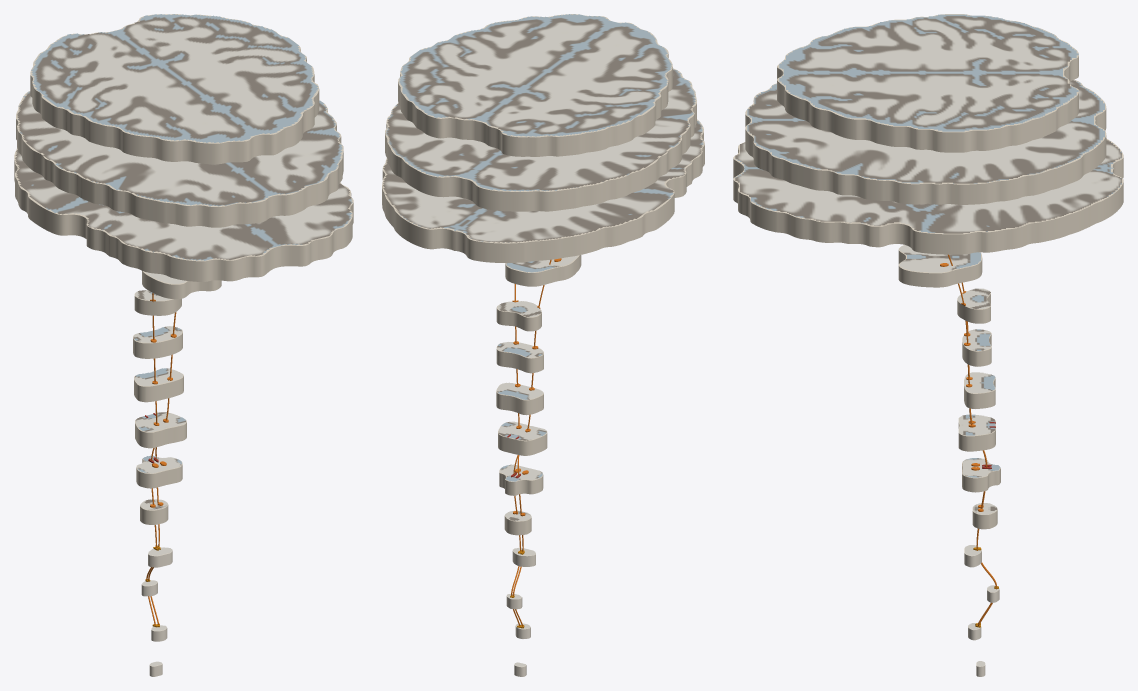
The picture shows the model from 3 angles, left to right: view 1: azimuth 30°, elevation 25°; view 2: azimuth 150°, elevation 25°; view 3: azimuth 270°, elevation 25°; orthographic projection. The views are drawn at different scales.
Visible parts, largest first — view 1: L15·切面（灰白质）, L14·切面（灰白质）, L13·切面（灰白质）, L13·背景·丘脑内囊, L14·背景·放射冠, L15·背景·皮质上部, L11·背景·下丘, L07·背景·橄榄中部, L09·背景·脑桥中部, L08·背景·脑桥下部, L06·背景·丘系交叉, L10·背景·脑桥上部 (+4 smaller); view 2: L15·切面（灰白质）, L14·切面（灰白质）, L13·切面（灰白质）, L13·背景·丘脑内囊, L14·背景·放射冠, L15·背景·皮质上部, L11·背景·下丘, L07·背景·橄榄中部, L09·背景·脑桥中部, L08·背景·脑桥下部, L10·背景·脑桥上部, L06·背景·丘系交叉 (+4 smaller); view 3: L15·切面（灰白质）, L14·切面（灰白质）, L13·切面（灰白质）, L13·背景·丘脑内囊, L14·背景·放射冠, L15·背景·皮质上部, L11·背景·下丘, L11·切面（灰白质）, L07·背景·橄榄中部, L07·切面（灰白质）, L06·背景·丘系交叉.
Part boxes in pixels (x1,y1,x2,y2): L15·切面（灰白质）: (31,14,318,142); L14·切面（灰白质）: (17,91,342,206); L13·切面（灰白质）: (15,150,352,260); L13·背景·丘脑内囊: (14,148,353,281); L14·背景·放射冠: (16,91,343,227); L15·背景·皮质上部: (30,14,319,164); L11·背景·下丘: (142,271,221,299); L07·背景·橄榄中部: (135,413,186,448); L09·背景·脑桥中部: (133,329,182,358); L08·背景·脑桥下部: (134,373,183,402); L06·背景·丘系交叉: (136,458,182,488); L10·背景·脑桥上部: (134,293,181,315); L15·切面（灰白质）: (399,14,671,136); L14·切面（灰白质）: (385,68,695,191); L13·切面（灰白质）: (383,121,703,242); L13·背景·丘脑内囊: (382,119,704,263); L14·背景·放射冠: (385,68,696,211); L15·背景·皮质上部: (398,14,672,156); L11·背景·下丘: (505,255,581,286); L07·背景·橄榄中部: (498,423,547,455); L09·背景·脑桥中部: (496,344,543,373); L08·背景·脑桥下部: (496,384,543,415); L10·背景·脑桥上部: (496,301,541,331); L06·背景·丘系交叉: (499,467,543,495); L15·切面（灰白质）: (779,14,1078,131); L14·切面（灰白质）: (747,80,1104,183); L13·切面（灰白质）: (735,138,1121,233); L13·背景·丘脑内囊: (733,139,1123,254); L14·背景·放射冠: (745,79,1106,204); L15·背景·皮质上部: (777,14,1078,152); L11·背景·下丘: (898,245,982,287); L11·切面（灰白质）: (900,245,980,272); L07·背景·橄榄中部: (958,418,995,451); L07·切面（灰白质）: (959,414,995,435); L06·背景·丘系交叉: (962,460,1000,492).
Bounding box in the file's own units: 13.92 × 29.72 × 17.47.
